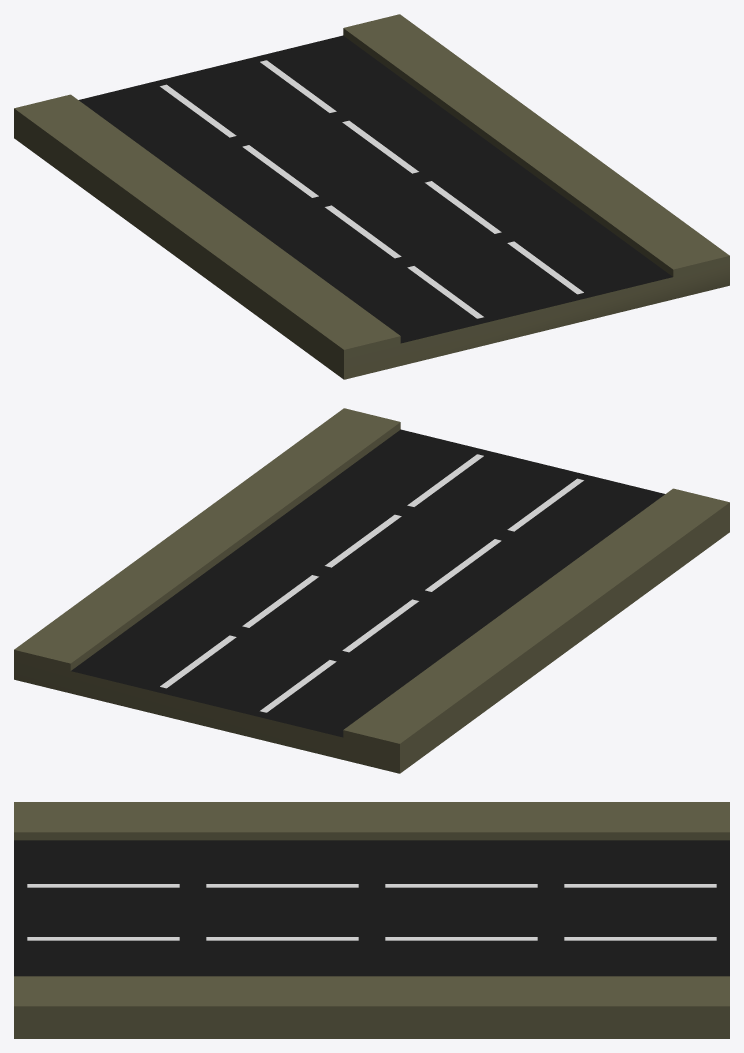
The model's file is Road.fbx.
3 renders of one model, top to bottom at view 1: azimuth 30°, elevation 25°; view 2: azimuth 150°, elevation 25°; view 3: azimuth 270°, elevation 25°, orthographic. The views are drawn at different scales.
Parts seen in each view (by area): view 1: Road; view 2: Road; view 3: Road.
Boxes of the visible parts, x1=… form: Road: x1=14, y1=14, x2=729, y2=379; Road: x1=14, y1=408, x2=729, y2=773; Road: x1=14, y1=802, x2=729, y2=1038.
Bounding box in the file's own units: 297 × 22 × 440.
